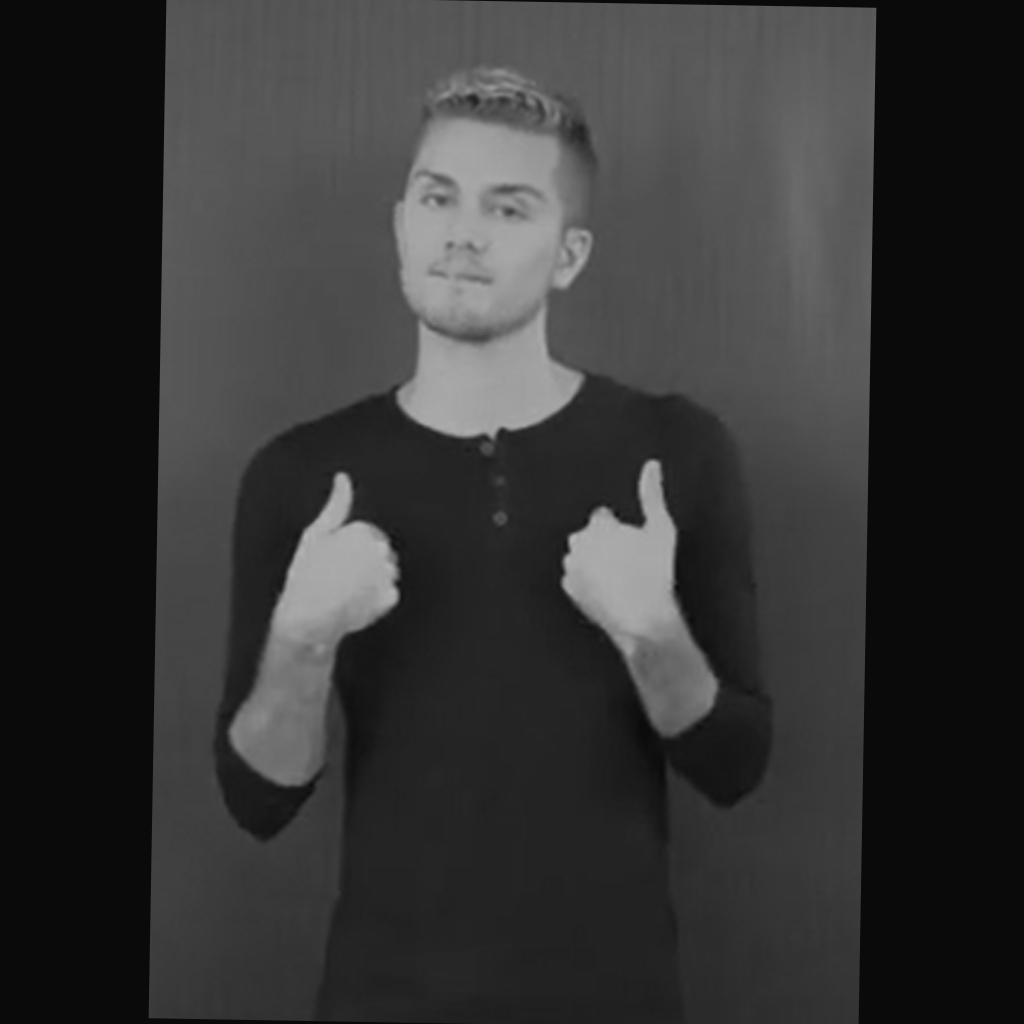have: (284, 453, 678, 640)
